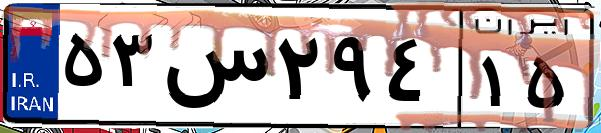1: (475, 38, 525, 113)
2: (270, 28, 330, 110)
3: (110, 28, 158, 98)
4: (385, 28, 445, 110)
5: (57, 26, 110, 100), (525, 38, 570, 115)
9: (330, 28, 385, 110)
س: (158, 20, 270, 120)
